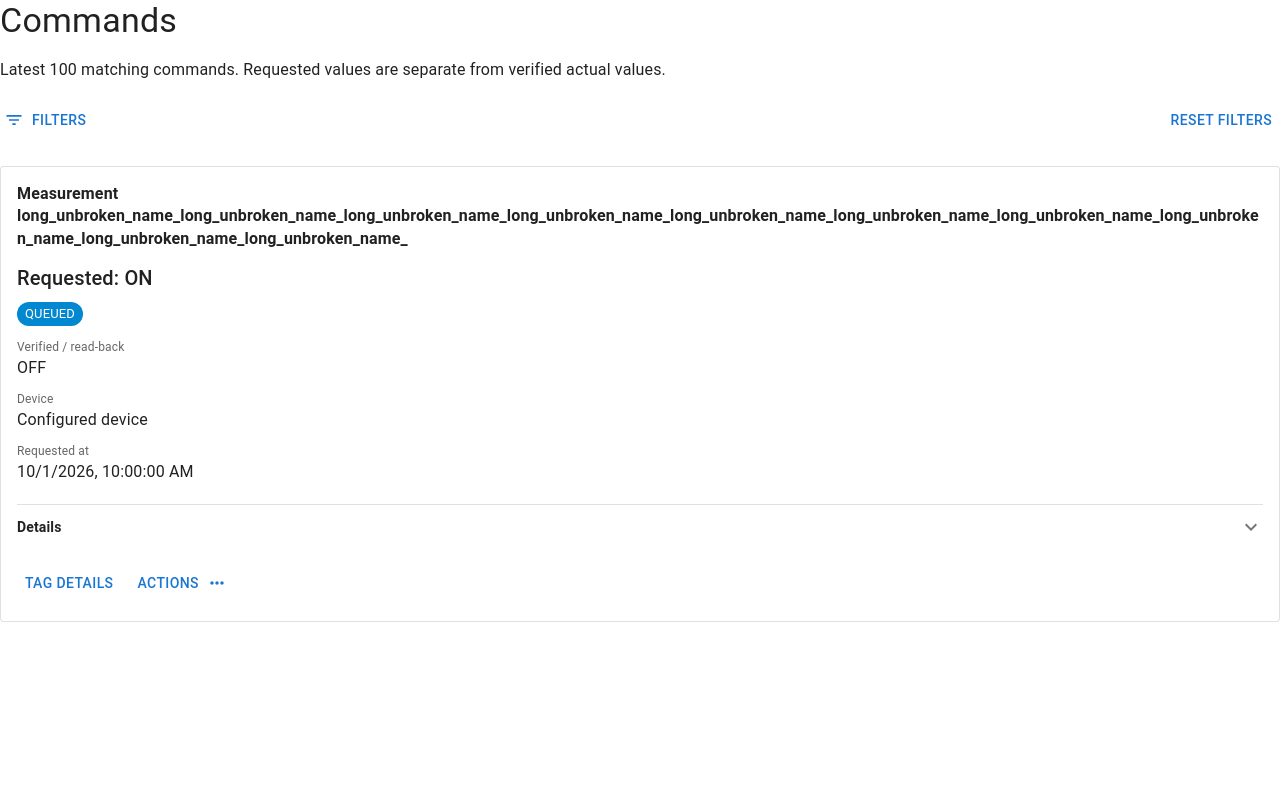
responsive command history › separates requested and read-back values and exposes lifecycle details
The width and height of the screenshot is (1280, 800).
Check: the text "Requested: ON" is shown, box x1=17 y1=262 x2=153 y2=294
Check: the text "OFF" is shown, box x1=17 y1=358 x2=46 y2=377
Step 1. Click the button "Details" → (39, 527), box x1=17 y1=505 x2=1263 y2=549
(page scrolled)
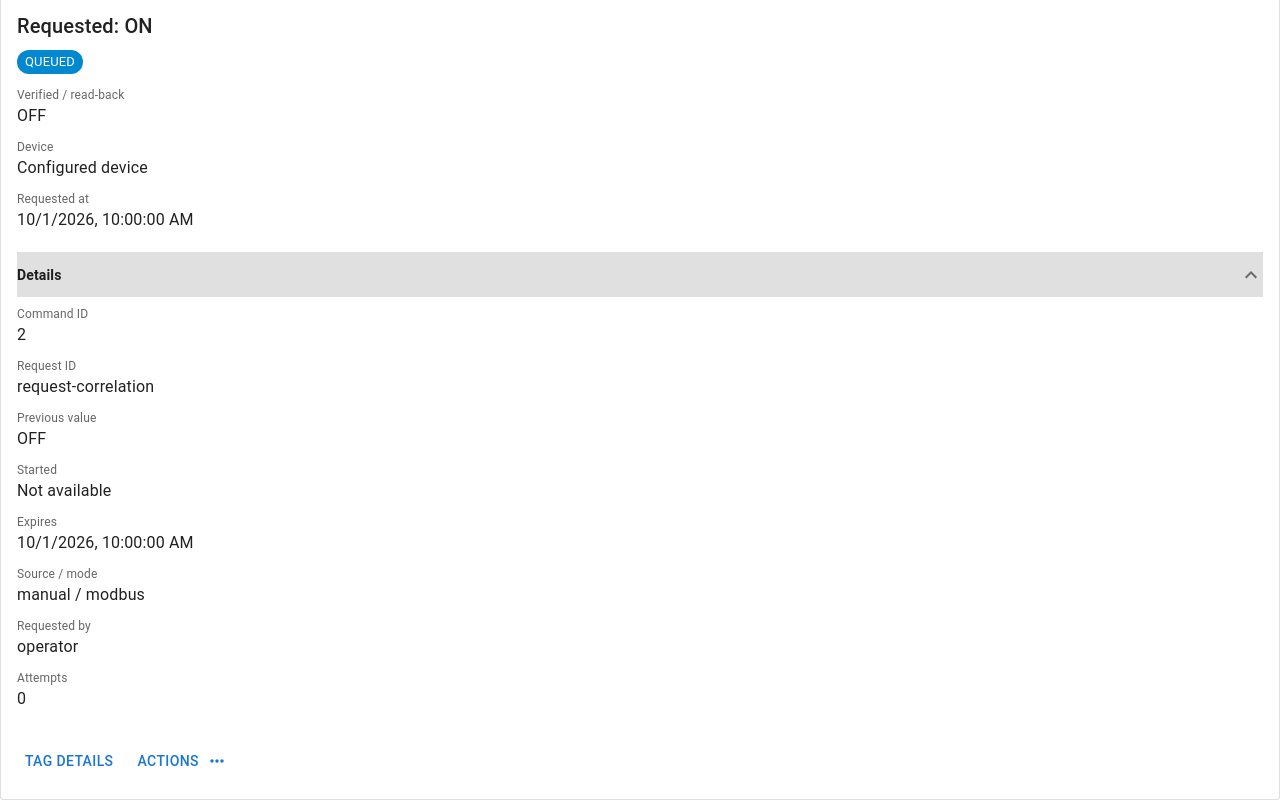
Check: the text "request-correlation" is shown, box x1=17 y1=377 x2=154 y2=396
Check: the text "operator" is shown, box x1=17 y1=637 x2=78 y2=656
